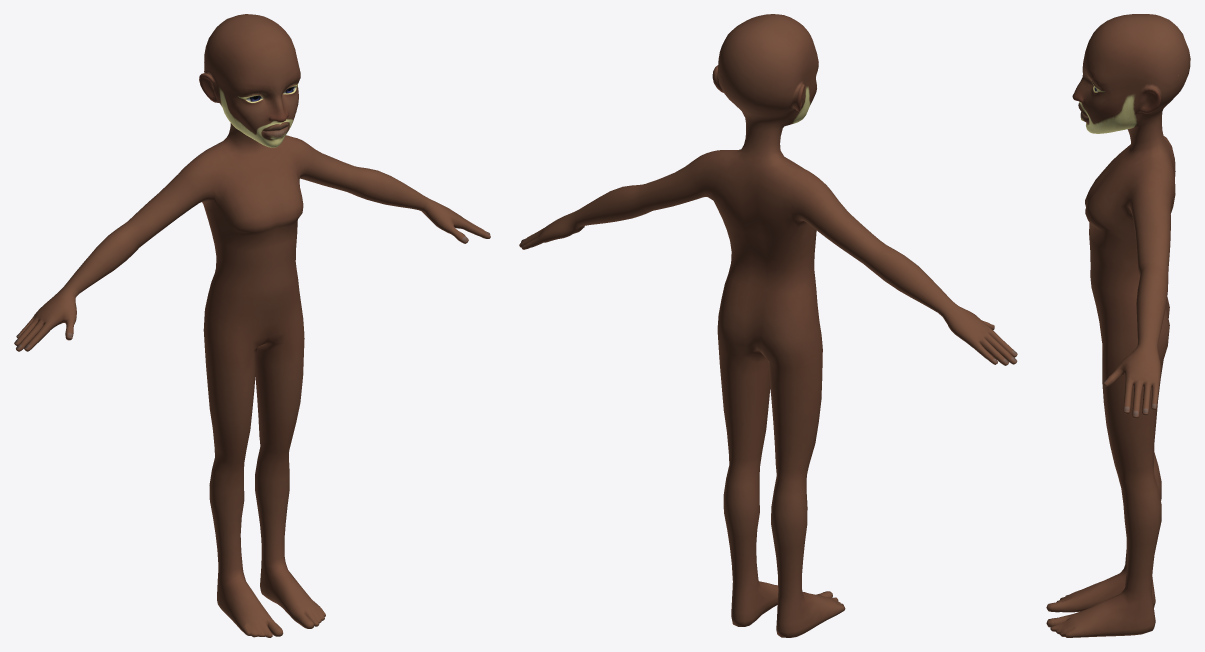
File: frame_0057.glb
3 renders of one model, left to right at view 1: azimuth 30°, elevation 25°; view 2: azimuth 150°, elevation 25°; view 3: azimuth 270°, elevation 25°, orthographic. The views are drawn at different scales.
Parts seen in each view (by area): view 1: frame_0057_head_geo; view 2: frame_0057_head_geo; view 3: frame_0057_head_geo.
Part boxes in pixels (x1,y1,x2,y2): frame_0057_head_geo: (14,14,490,637); frame_0057_head_geo: (519,14,1017,637); frame_0057_head_geo: (1046,14,1190,637).
Size of the model in its own units: 1.28 by 1.5 by 0.3253.
Materials: 3 (3 with a texture image).
